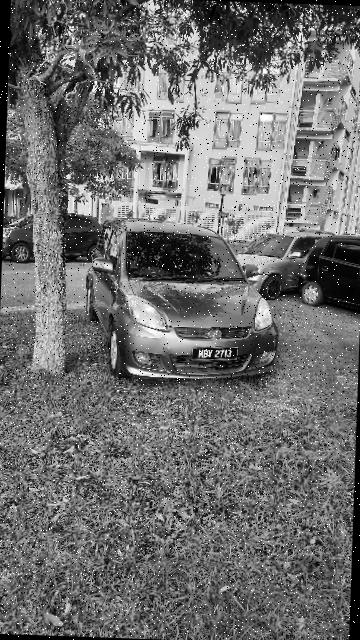License_Plate: (188, 343, 241, 364)
car: (86, 217, 285, 388), (222, 216, 347, 301), (284, 222, 360, 314)
